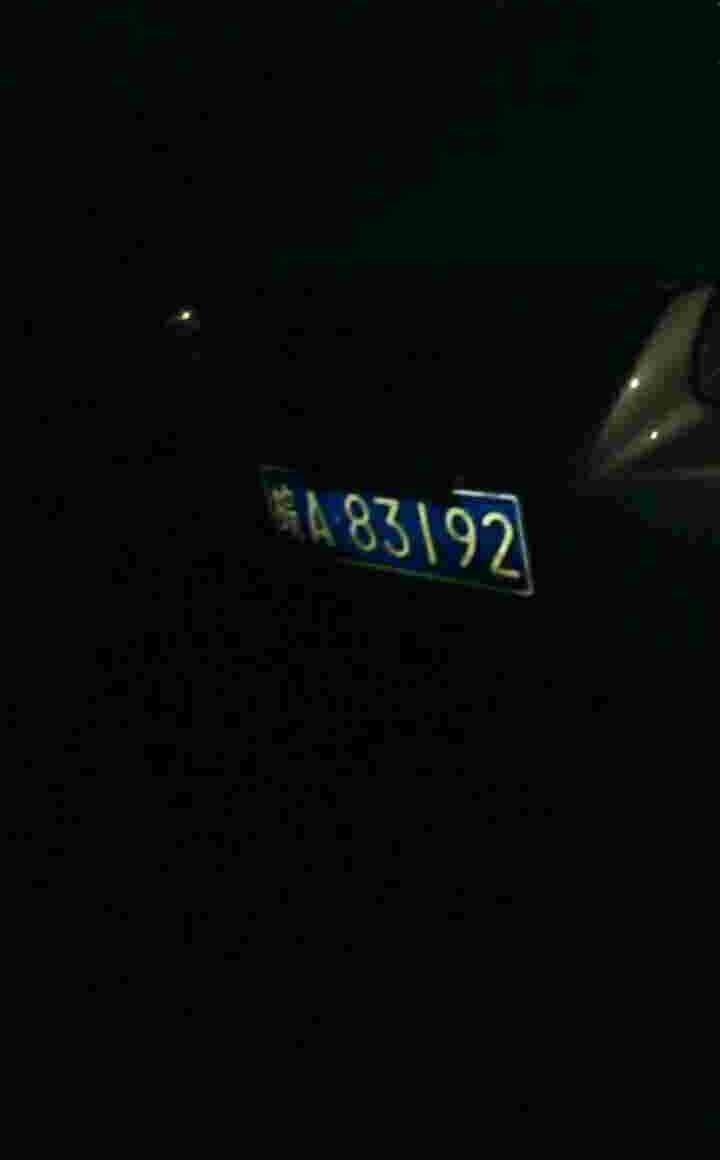license_plate: (259, 477, 537, 586)
